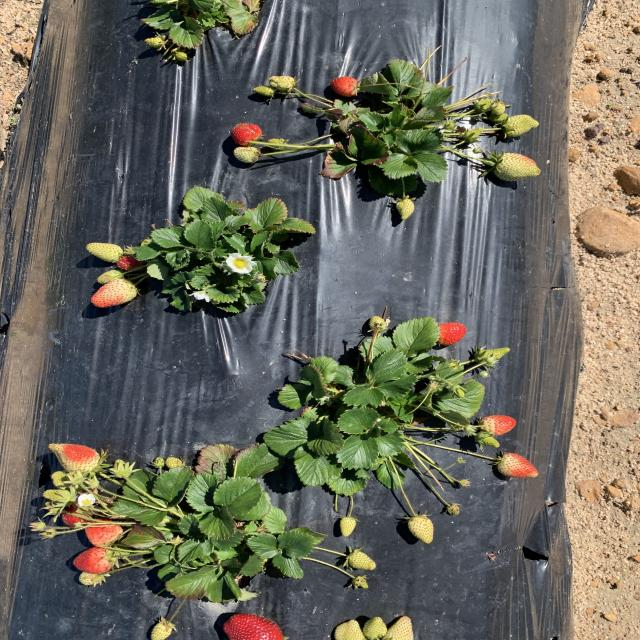unripe: (220, 612, 291, 640), (72, 546, 116, 573), (82, 519, 122, 546), (481, 414, 518, 436), (60, 504, 93, 527), (436, 323, 468, 346), (231, 123, 262, 145), (116, 254, 148, 271), (332, 77, 358, 97)
